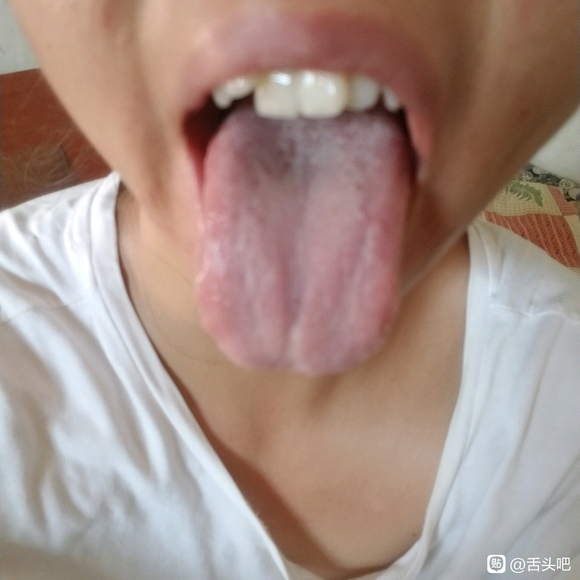baitaishe: (196, 101, 412, 375)
liewenshe: (275, 135, 297, 180)
